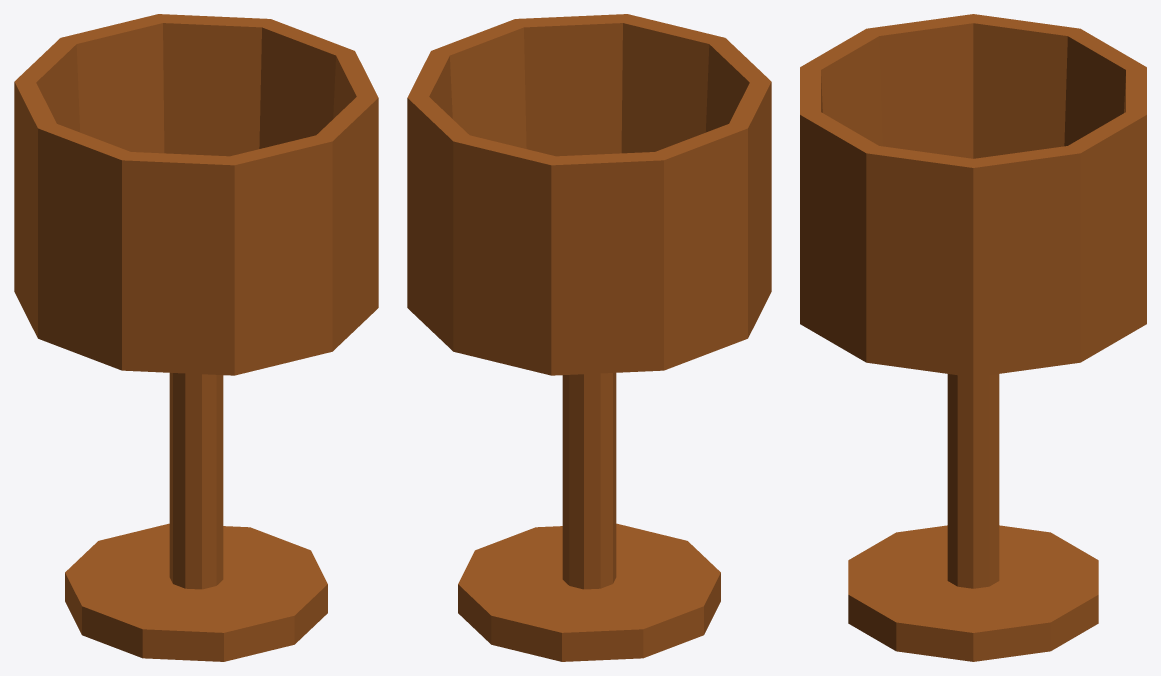
Rendered from SM_cup_07.FBX.
The picture shows the model from 3 angles, left to right: view 1: azimuth 30°, elevation 25°; view 2: azimuth 150°, elevation 25°; view 3: azimuth 270°, elevation 25°; orthographic projection.
Visible parts, largest first — view 1: Object106; view 2: Object106; view 3: Object106.
Boxes of the visible parts, <box> form: Object106: <box>14,14,378,661</box>; Object106: <box>407,14,771,661</box>; Object106: <box>800,14,1146,661</box>.
Size of the model in its own units: 21.07 by 32.87 by 20.04.
